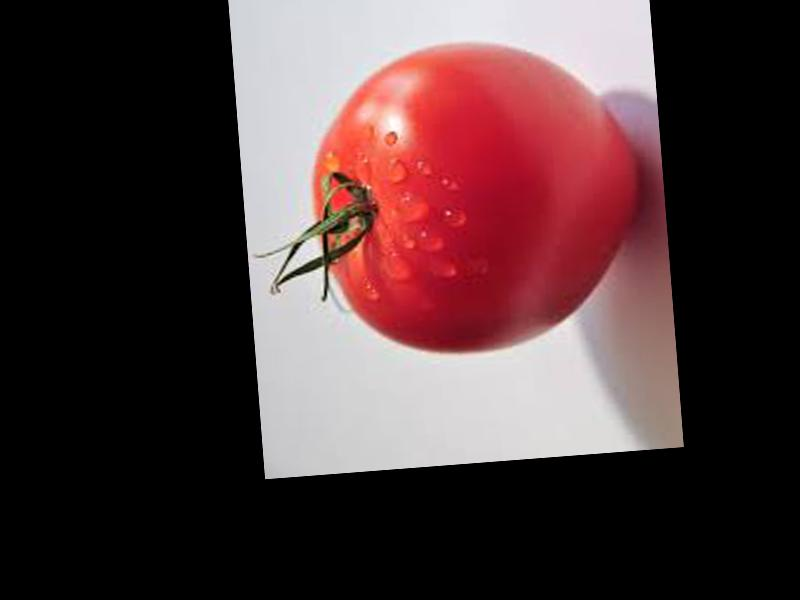Tomato: (306, 29, 650, 362)
